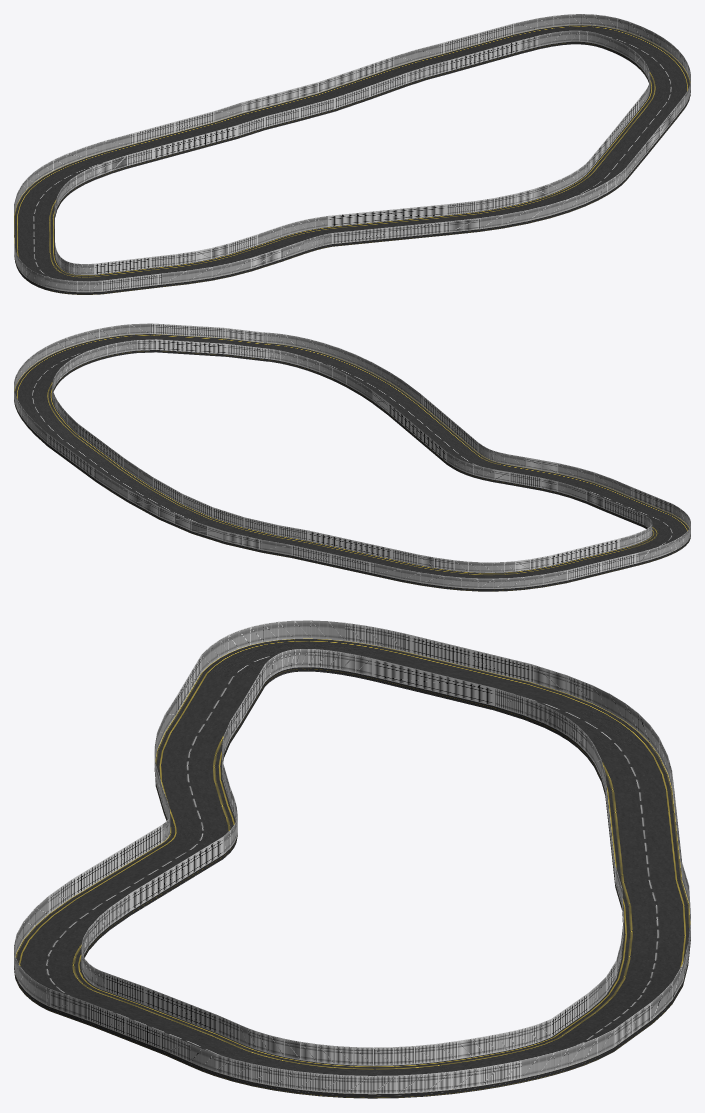
File: road2.fbx
3 renders of one model, top to bottom at view 1: azimuth 30°, elevation 25°; view 2: azimuth 150°, elevation 25°; view 3: azimuth 270°, elevation 25°, orthographic. The views are drawn at different scales.
Visible parts, largest first — view 1: Sweep; view 2: Sweep; view 3: Sweep.
Part boxes in pixels (x1,y1,x2,y2): Sweep: [14, 14, 690, 294]; Sweep: [14, 323, 690, 591]; Sweep: [14, 620, 690, 1098].
Size of the model in its own units: 2370 by 211 by 1270.
